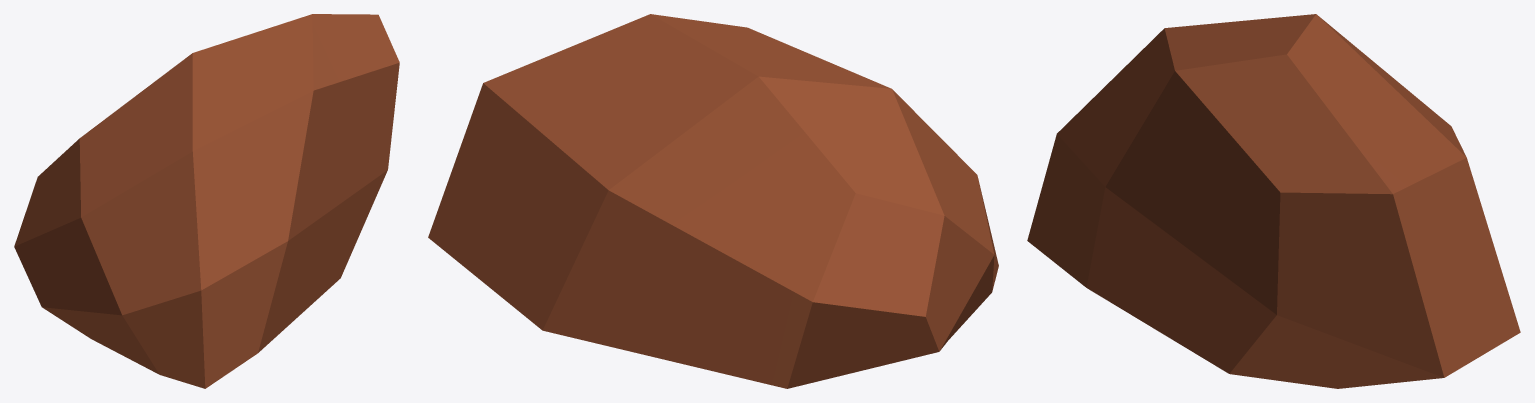
Rendered from StoneA.fbx.
3 views of the same model, side by side, from view 1: azimuth 30°, elevation 25°; view 2: azimuth 150°, elevation 25°; view 3: azimuth 270°, elevation 25° (orthographic). The views are drawn at different scales.
Parts seen in each view (by area): view 1: Cube.045_cell.009; view 2: Cube.045_cell.009; view 3: Cube.045_cell.009.
Boxes of the visible parts, left/top/right/bottom form: Cube.045_cell.009: left=14, top=14, right=399, bottom=388; Cube.045_cell.009: left=428, top=14, right=998, bottom=388; Cube.045_cell.009: left=1027, top=14, right=1520, bottom=388.
Bounding box in the file's own units: 0.8512 × 0.495 × 0.7001.
Materials: 1 (1 with a texture image).
